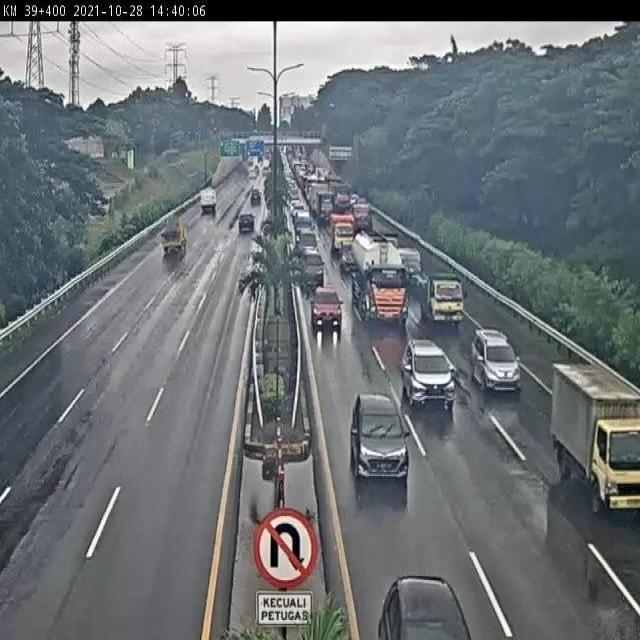car: (349, 395, 406, 473), (401, 339, 456, 404), (471, 329, 521, 392), (310, 287, 345, 329), (301, 250, 326, 286), (297, 227, 318, 253), (237, 211, 255, 233), (340, 246, 356, 270)
small truck: (160, 216, 189, 256)
truck-m-: (418, 269, 466, 324), (329, 211, 356, 249)
truck-s-: (552, 364, 640, 508), (397, 245, 422, 280)
truck-xl-: (353, 230, 408, 318)
